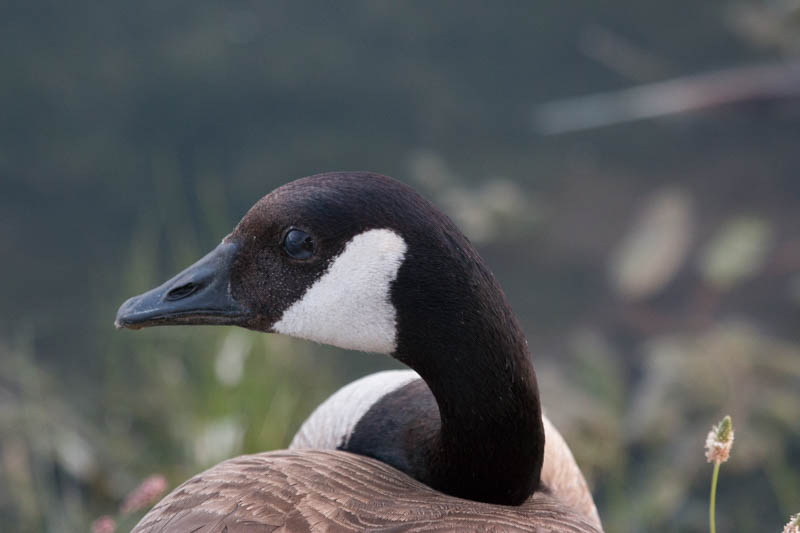goose-head: (112, 168, 531, 358)
